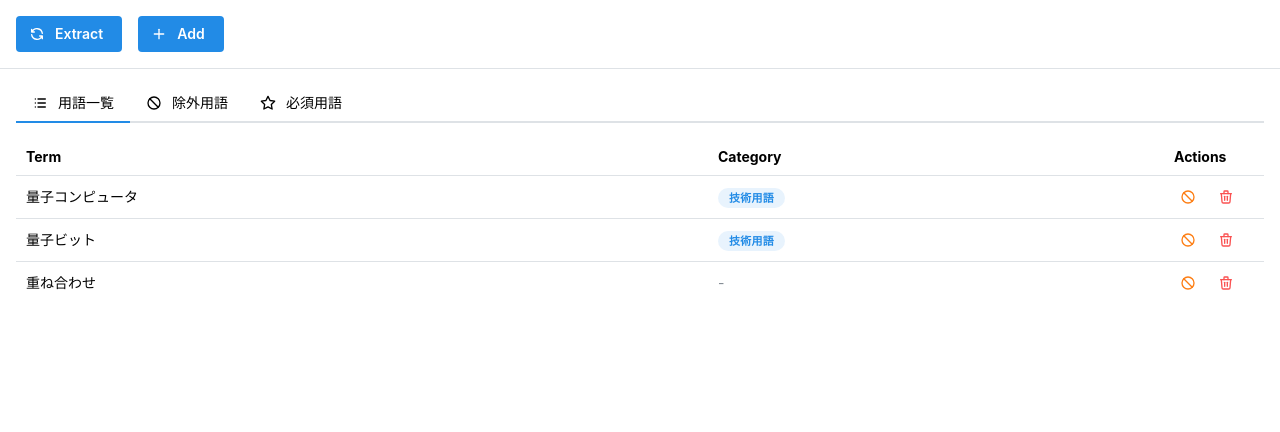
Test: TermsPage › shows detail panel when term is selected
Click the text "量子コンピュータ". click: point(82, 196)
box: [16,175,708,218]
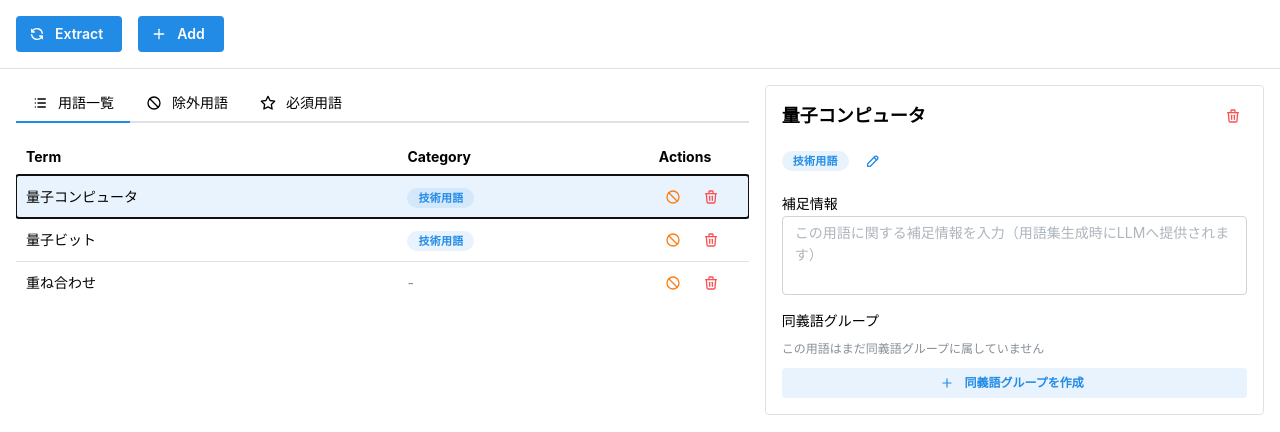
Now the element with test id "term-detail-panel" is shown, box [765,85,1264,415]
Now the text "量子コンピュータ" is shown, box [782,102,926,131]
